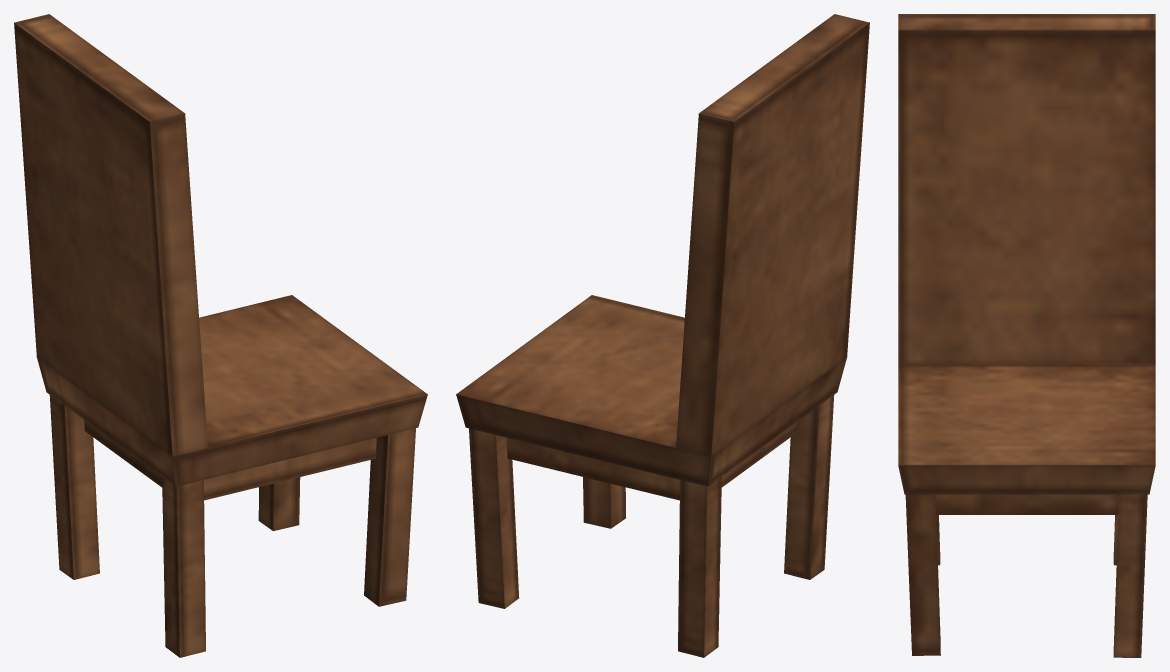
File: SM_SYD_Chair01.fbx
3 views of the same model, side by side, from view 1: azimuth 30°, elevation 25°; view 2: azimuth 150°, elevation 25°; view 3: azimuth 270°, elevation 25° (orthographic). The views are drawn at different scales.
Parts seen in each view (by area): view 1: SM_SYD_Chair01; view 2: SM_SYD_Chair01; view 3: SM_SYD_Chair01.
Boxes of the visible parts, left/top/right/bottom form: SM_SYD_Chair01: left=14, top=14, right=427, bottom=657; SM_SYD_Chair01: left=456, top=14, right=869, bottom=657; SM_SYD_Chair01: left=898, top=14, right=1155, bottom=657.
Bounding box in the file's own units: 65.64 × 124 × 55.54.
